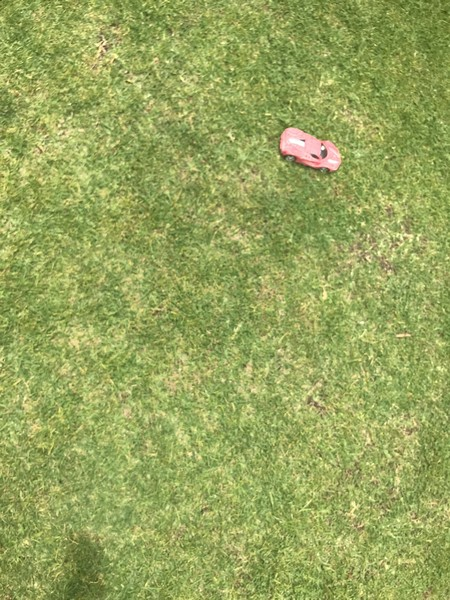RC: (278, 123, 343, 173)
